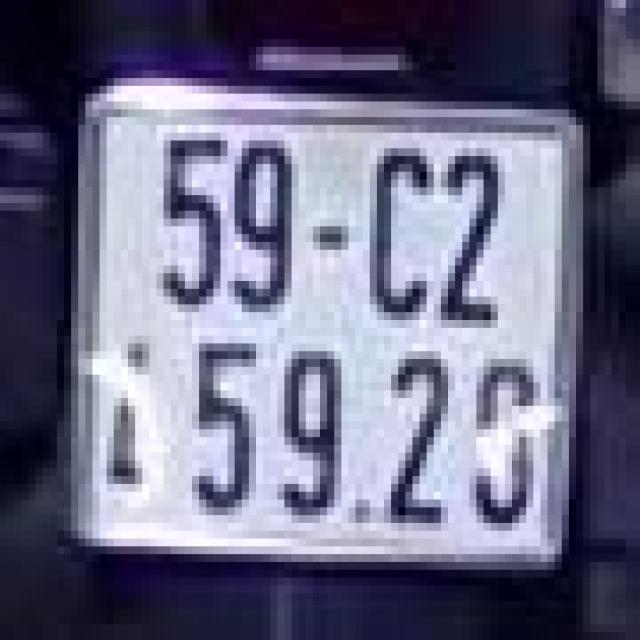0: (469, 351, 555, 531)
1: (106, 312, 164, 508)
2: (373, 343, 459, 523), (441, 136, 505, 340)
5: (150, 105, 228, 332), (199, 332, 256, 519)
9: (270, 339, 348, 527), (234, 140, 306, 320)
C: (356, 132, 455, 328)
